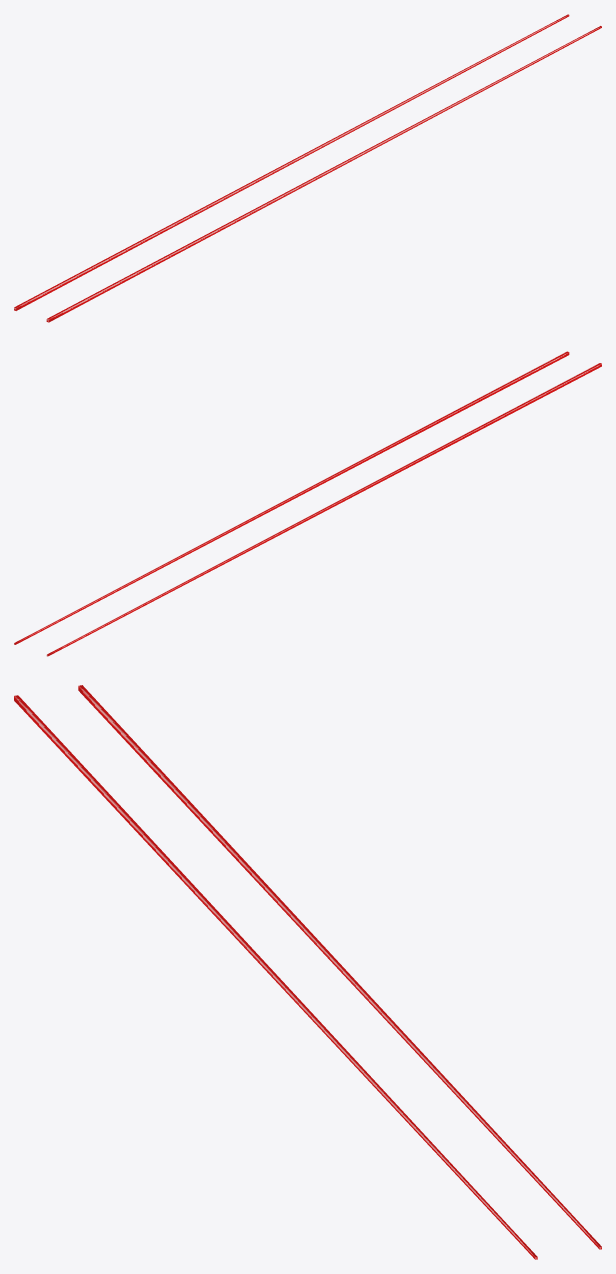
Rendered from Cables01.glb.
The picture shows the model from 3 angles, top to bottom: view 1: azimuth 30°, elevation 25°; view 2: azimuth 210°, elevation 25°; view 3: azimuth 270°, elevation 25°; orthographic projection. The views are drawn at different scales.
Visible parts, largest first — view 1: Cables01; view 2: Cables01; view 3: Cables01.
Part boxes in pixels (left/top/right/bottom): Cables01: left=14, top=14, right=601, bottom=322; Cables01: left=14, top=351, right=601, bottom=656; Cables01: left=14, top=685, right=601, bottom=1259.
Bounding box in the file's own units: 12173 × 60.48 × 5274.
Materials: 1 (1 with a texture image).
